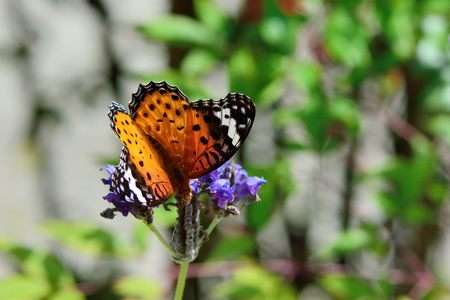Argyreus hyperbius: (100, 78, 256, 211)
butterfly: (102, 80, 258, 213)
